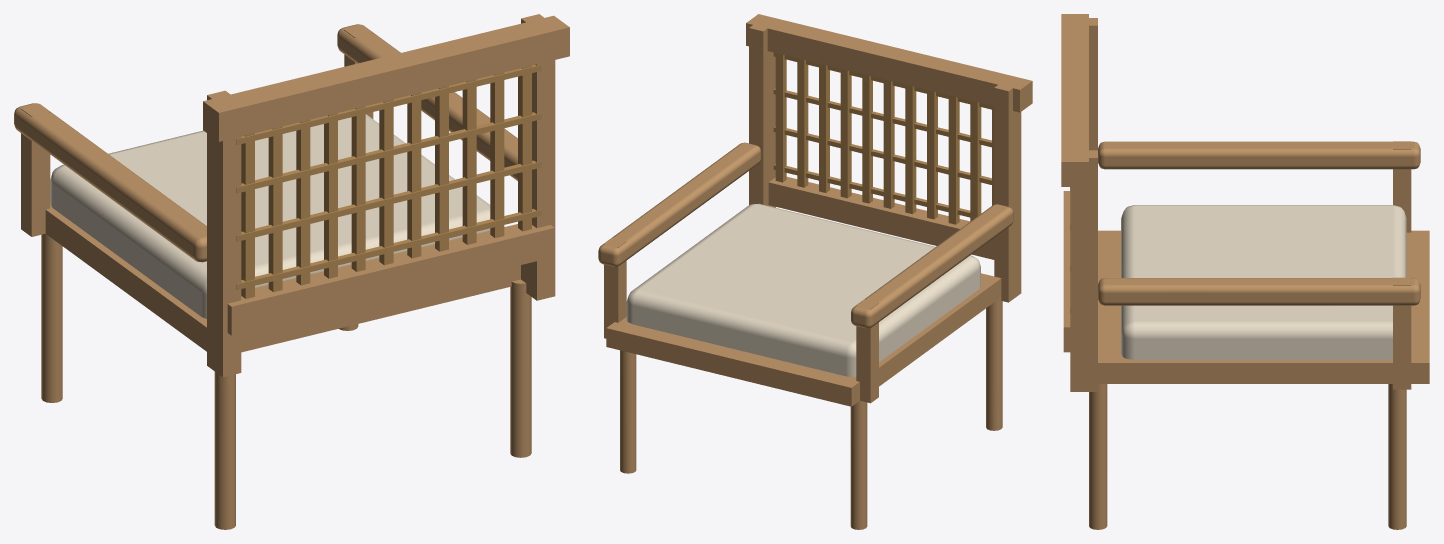
3 renders of one model, left to right at view 1: azimuth 30°, elevation 25°; view 2: azimuth 150°, elevation 25°; view 3: azimuth 270°, elevation 25°, orthographic. The views are drawn at different scales.
Parts seen in each view (by area): view 1: leg-1, cane-upright-1, seat-cushion; view 2: leg-1, seat-cushion, cane-upright-1; view 3: leg-1, seat-cushion.
Part boxes in pixels (x1,y1,x2,y2): leg-1: (14, 14, 569, 529); cane-upright-1: (236, 65, 541, 298); seat-cushion: (50, 114, 490, 318); leg-1: (598, 14, 1032, 529); seat-cushion: (626, 203, 980, 376); cane-upright-1: (773, 52, 994, 224); leg-1: (1061, 14, 1429, 529); seat-cushion: (1121, 205, 1406, 359).
Bounding box in the file's own units: 0.76 × 0.9 × 0.8.
